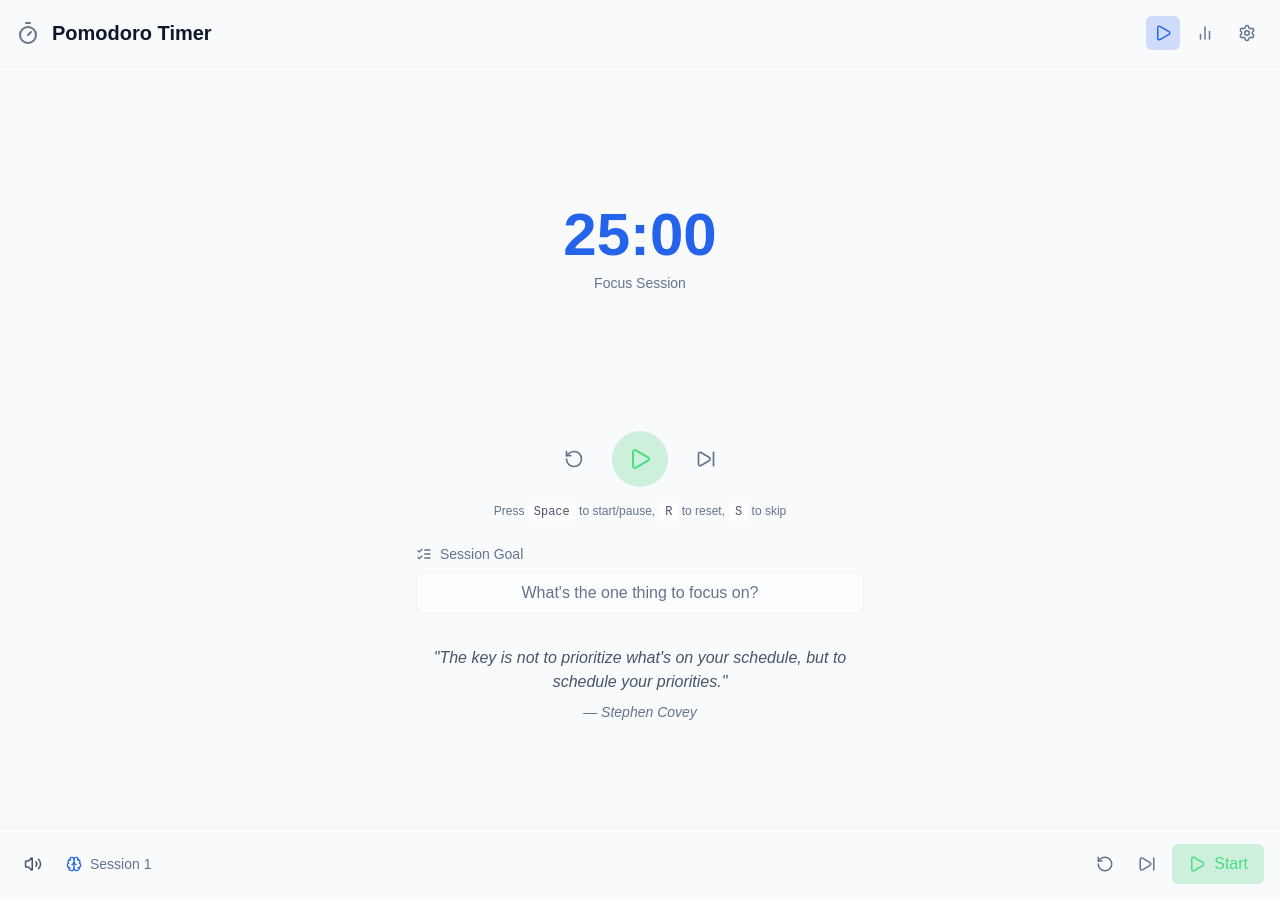
Test: PomodoroTablet › view navigation › should switch to settings view when settings button is clicked
Click the button named "Settings". click: (1247, 33)
box: [1230,16,1264,50]
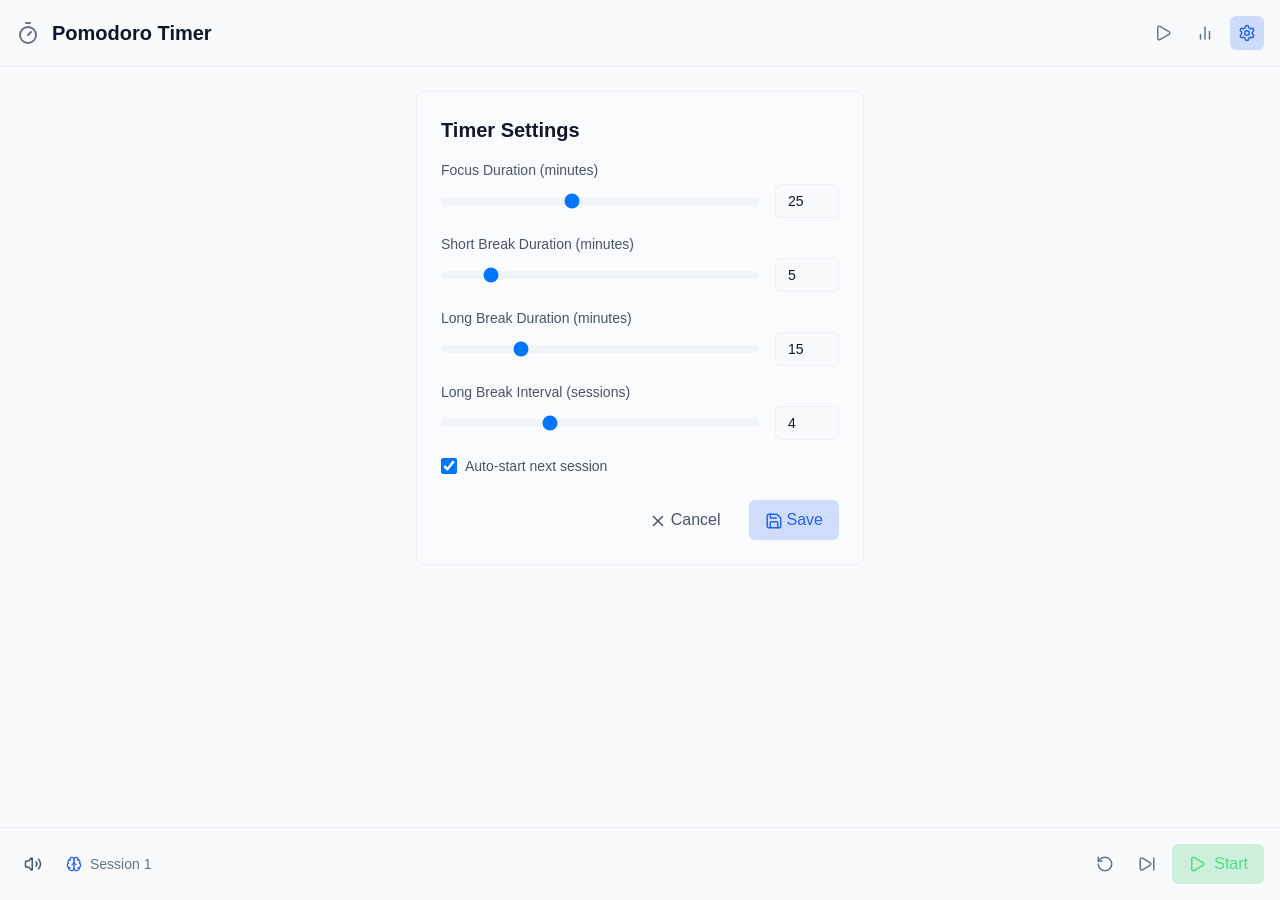
Check: the heading "Timer Settings" is shown, box [441,119,580,141]
